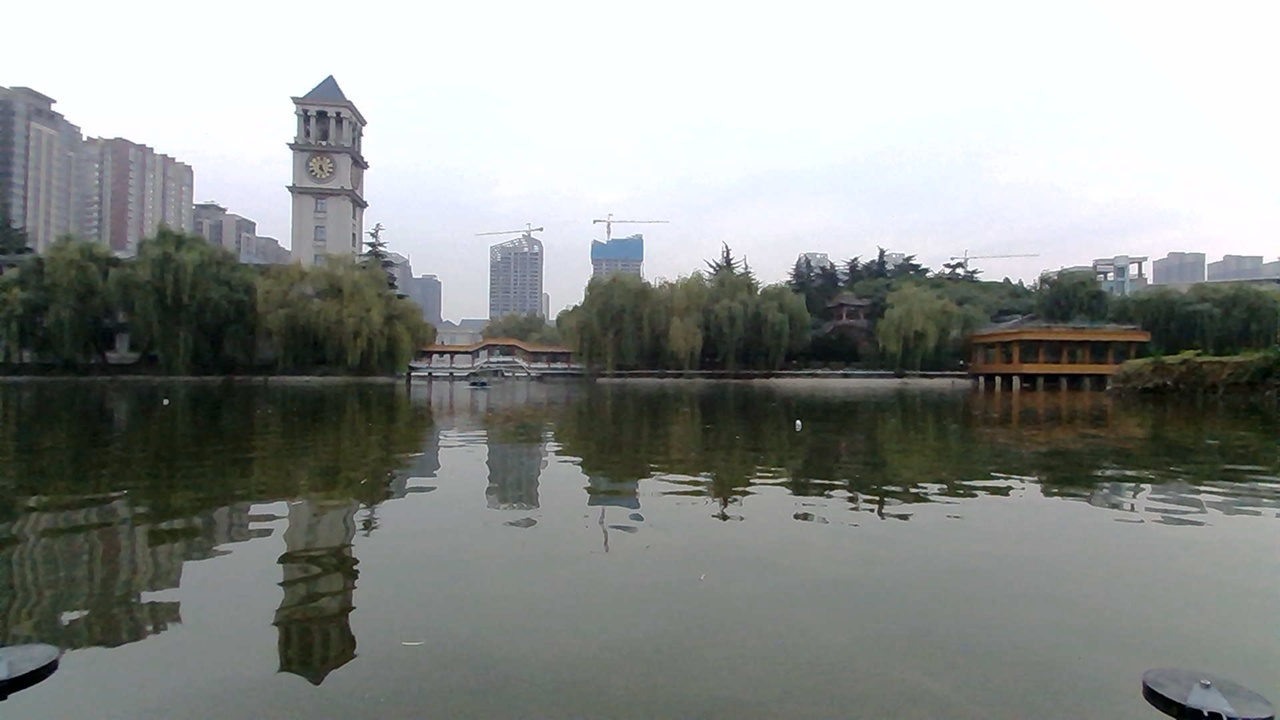bottle: (782, 408, 816, 433)
